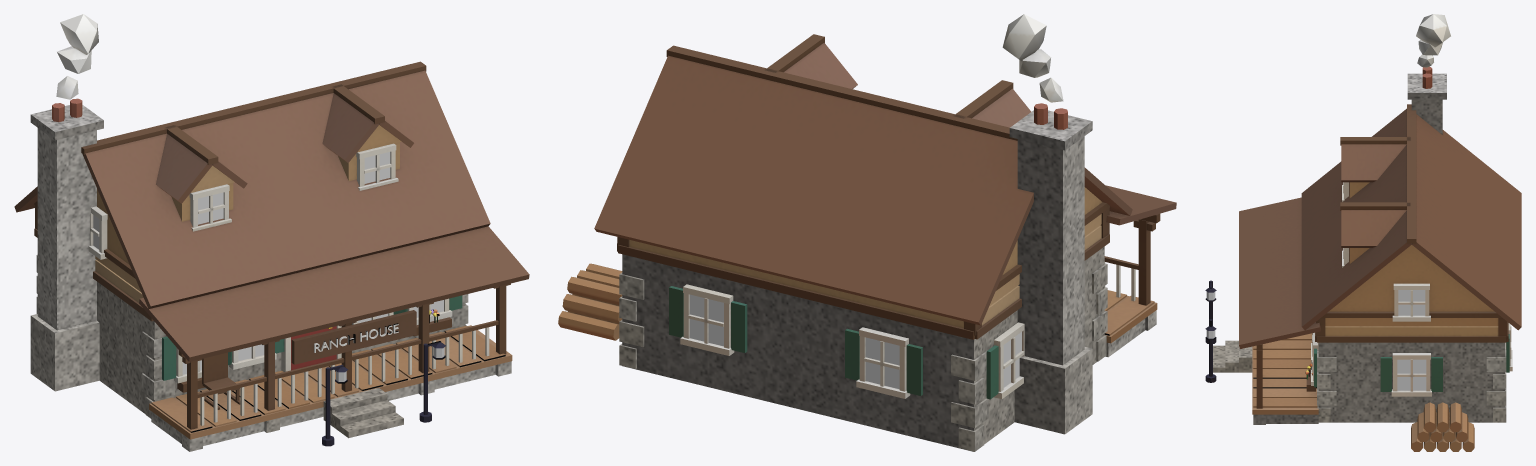
The model's file is home_house_2.fbx.
3 renders of one model, left to right at view 1: azimuth 30°, elevation 25°; view 2: azimuth 150°, elevation 25°; view 3: azimuth 270°, elevation 25°, orthographic. The views are drawn at different scales.
Parts seen in each view (by area): view 1: home_house_2_body, home_house_2_body_glow; view 2: home_house_2_body, home_house_2_body_glow; view 3: home_house_2_body, home_house_2_body_glow.
Part boxes in pixels (x1,y1,x2,y2): home_house_2_body: [14, 14, 529, 451]; home_house_2_body_glow: [93, 152, 443, 374]; home_house_2_body: [558, 14, 1176, 451]; home_house_2_body_glow: [690, 294, 1021, 389]; home_house_2_body: [1205, 14, 1521, 451]; home_house_2_body_glow: [1397, 290, 1426, 390].
Bounding box in the file's own units: 3880 × 3053 × 3059.
Materials: 2 (1 with a texture image).
